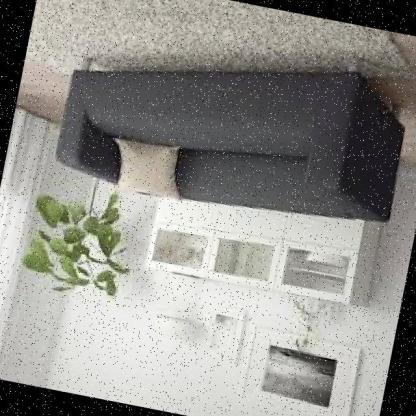Sofa: (27, 11, 416, 276)
